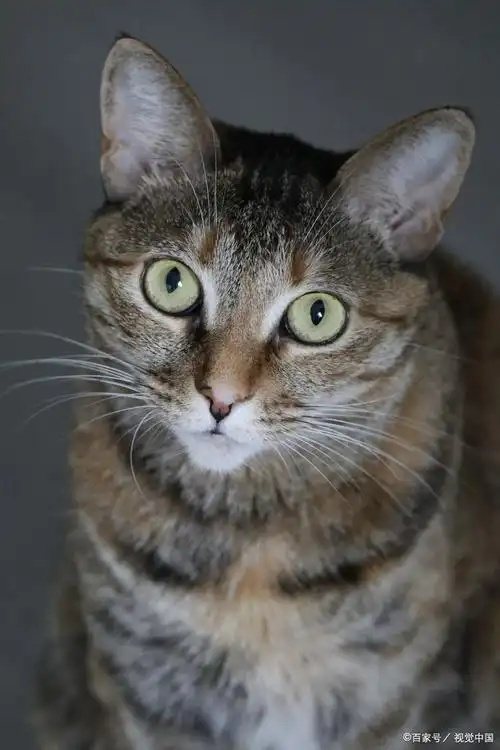狸花猫: (74, 110, 471, 581)
